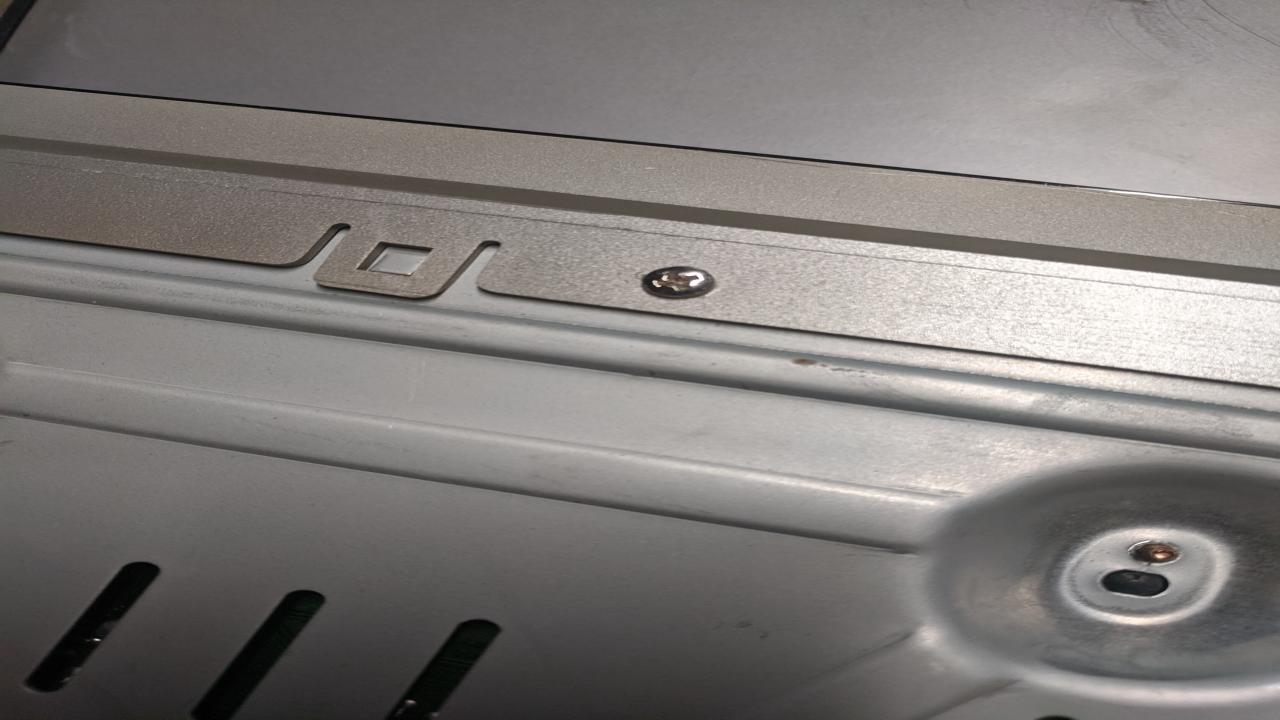CRS: (642, 265, 717, 299)
